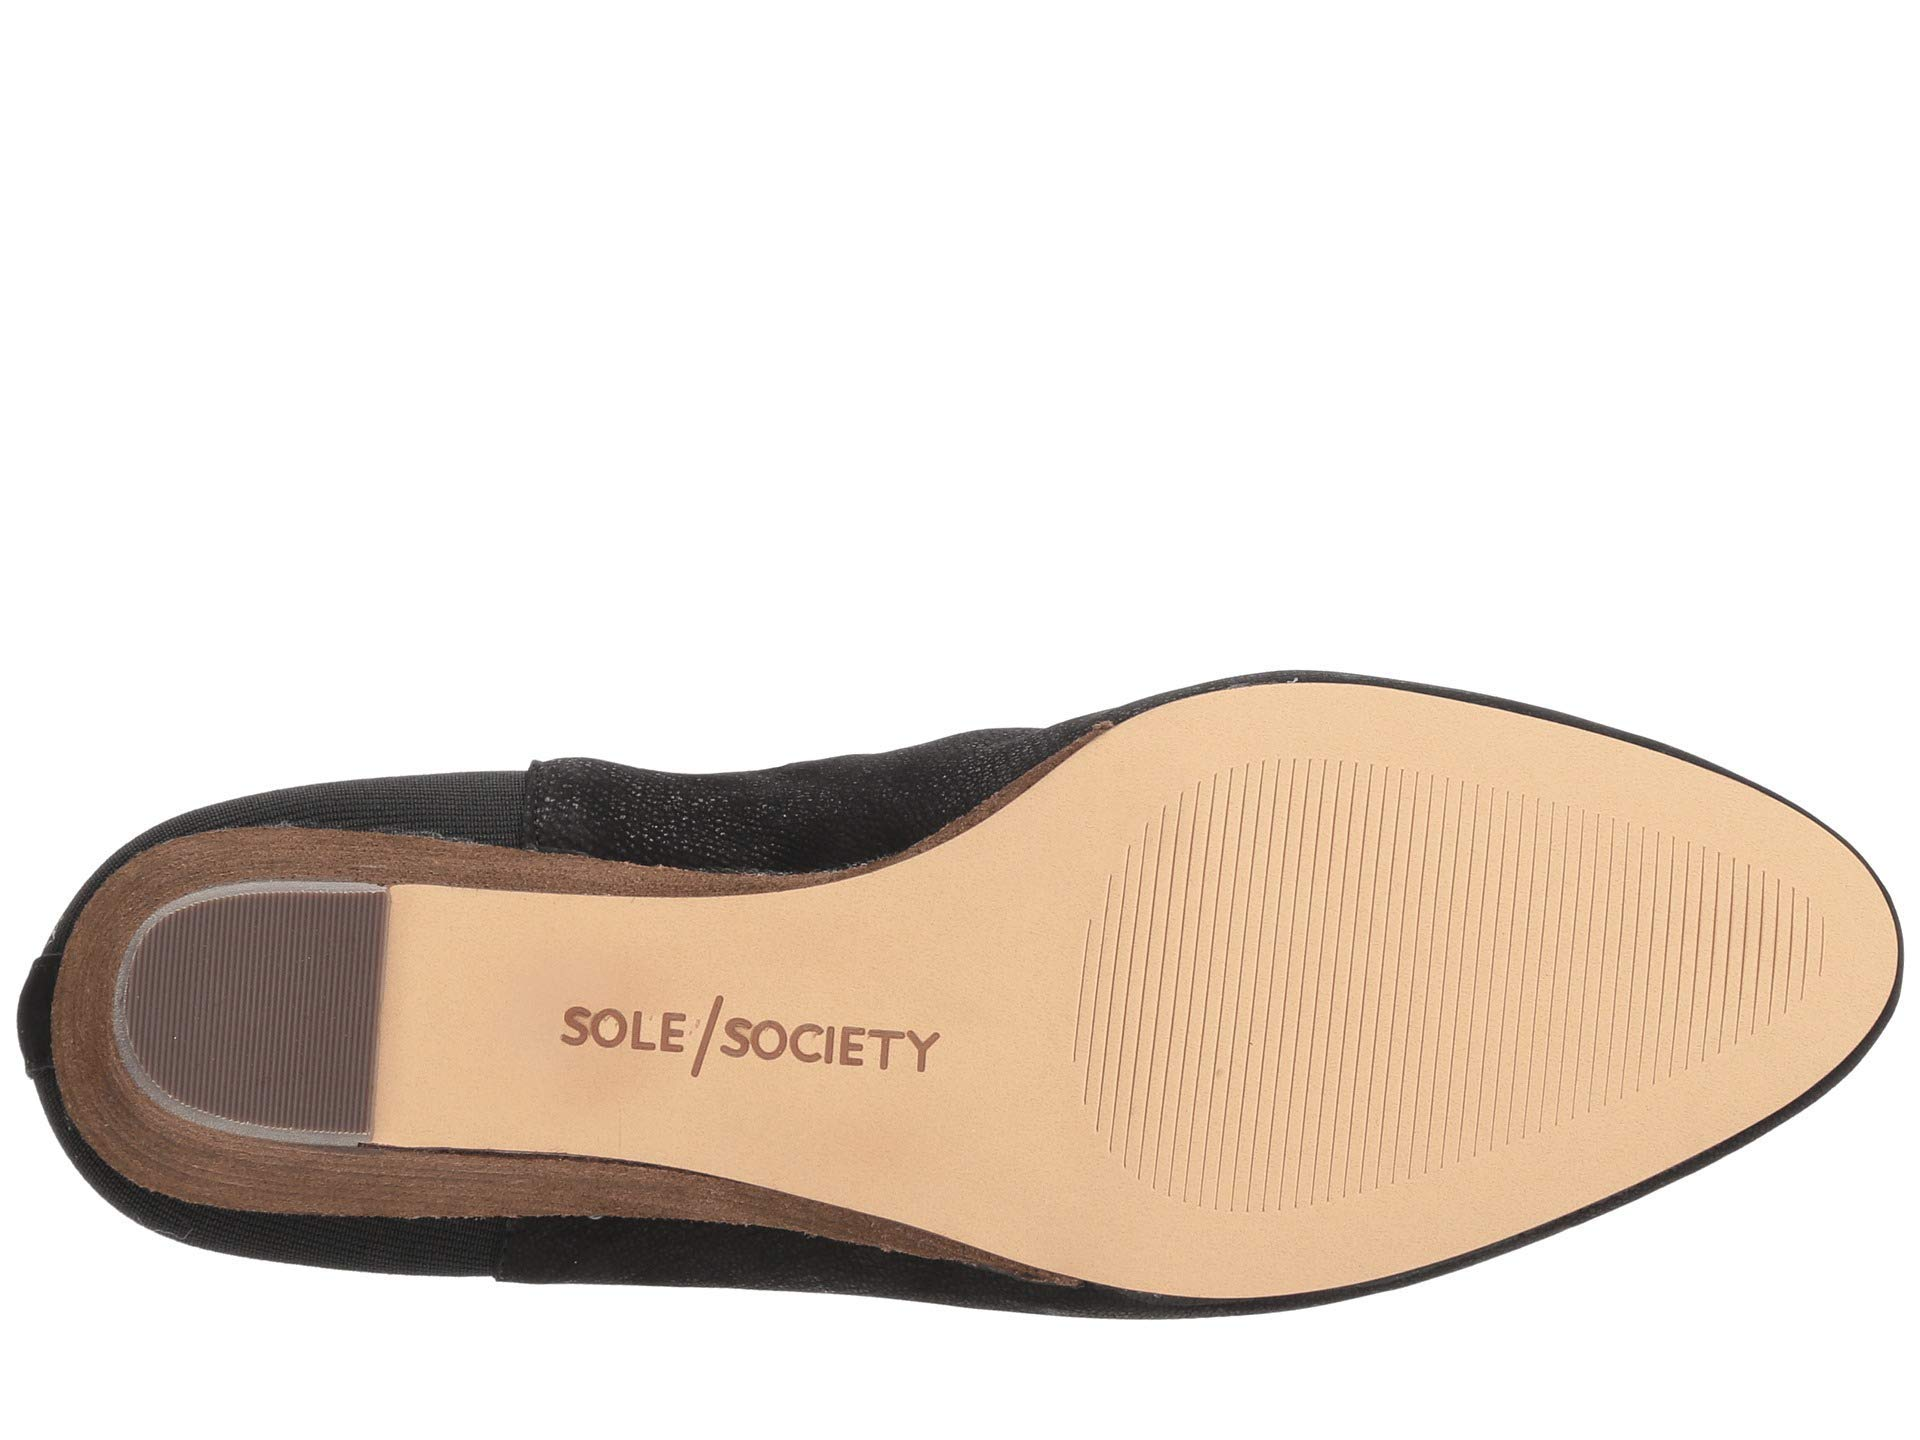line: (1185, 768, 1689, 1150), (186, 924, 354, 1116)
